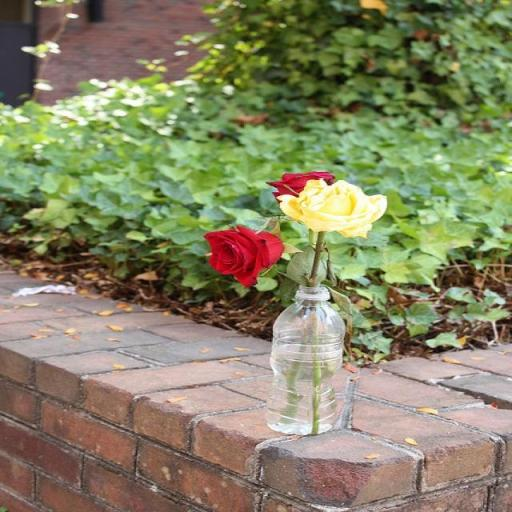plastic: (266, 285, 351, 438)
